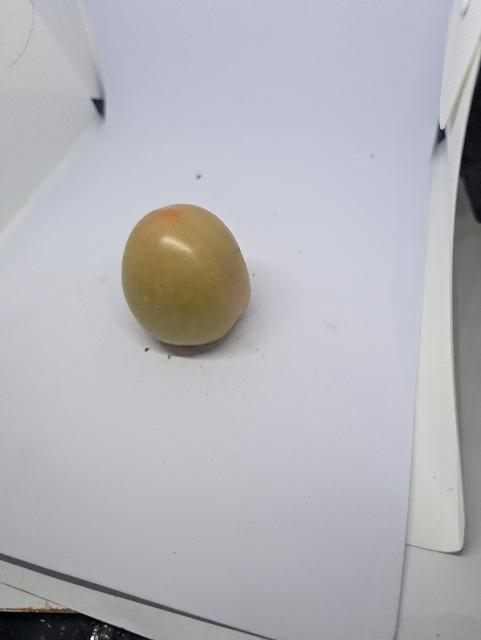breaker: (122, 204, 251, 346)
